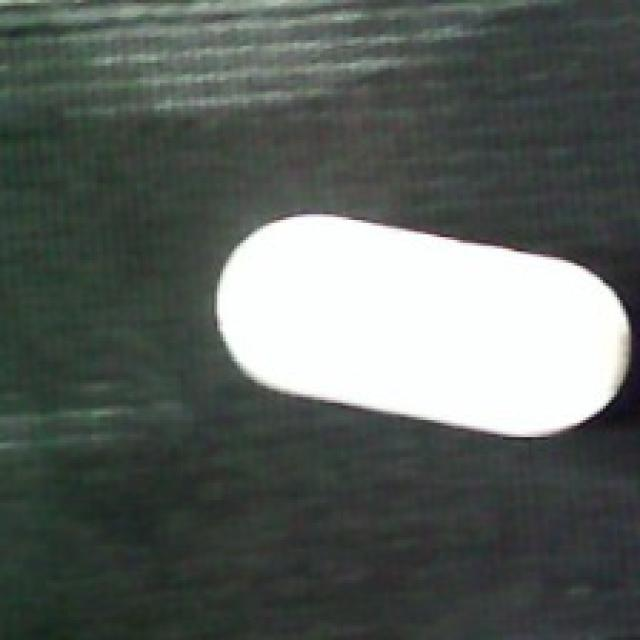no-defect: (208, 208, 632, 443)
